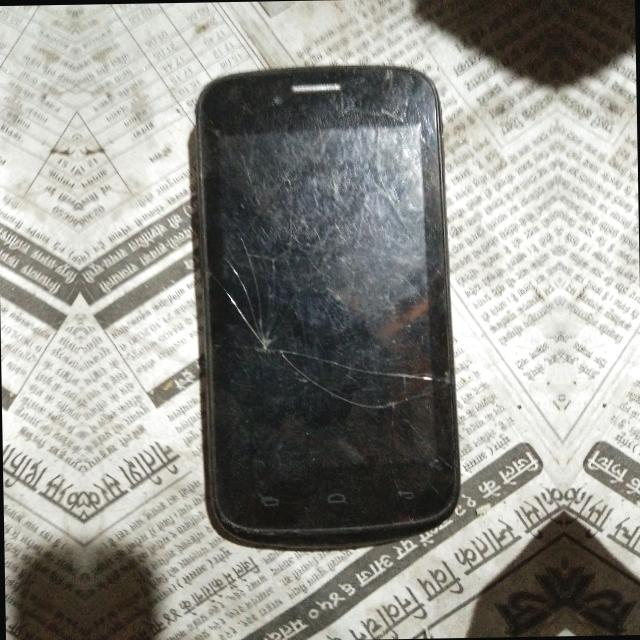phone_screen: (205, 116, 454, 530)
